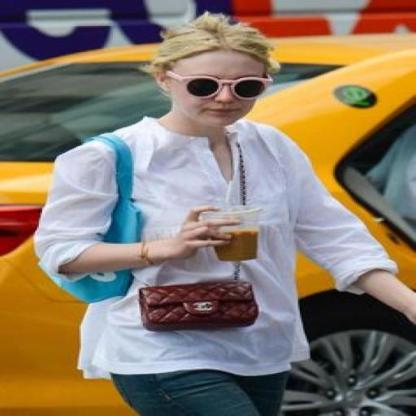bag: (136, 266, 261, 340)
person: (41, 7, 416, 416)
